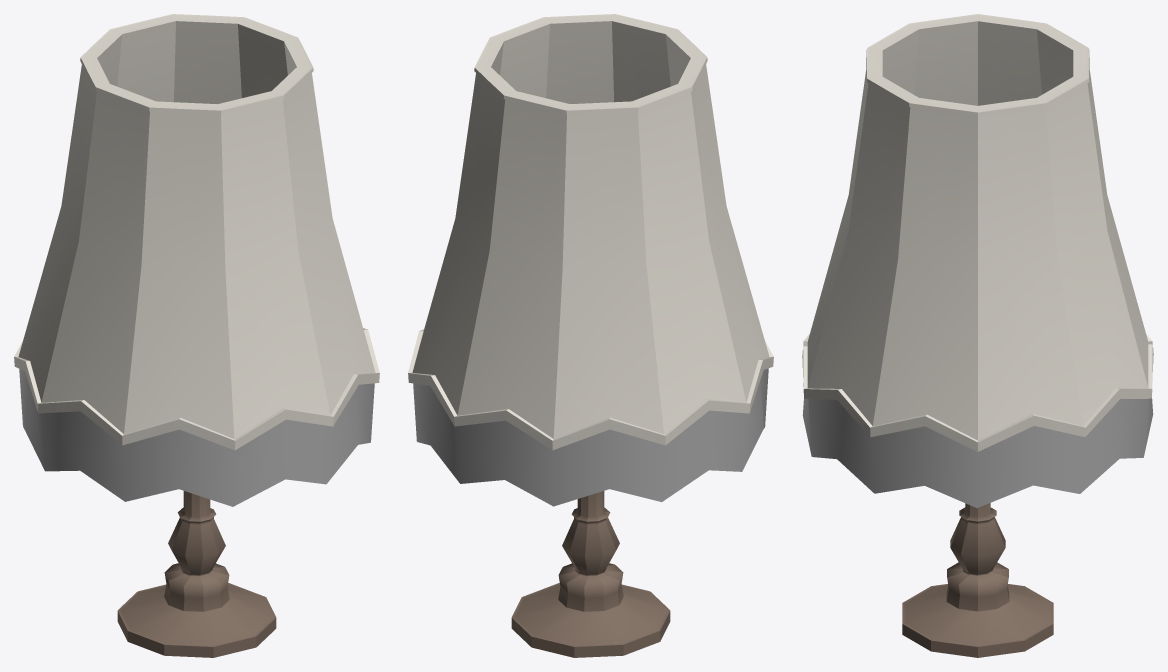
Rendered from Lamp_Table.fbx.
3 renders of one model, left to right at view 1: azimuth 30°, elevation 25°; view 2: azimuth 150°, elevation 25°; view 3: azimuth 270°, elevation 25°, orthographic.
Visible parts, largest first — view 1: LampCover, LampTrim, LampBase; view 2: LampCover, LampTrim, LampBase; view 3: LampCover, LampTrim, LampBase.
Part boxes in pixels (left/top/right/bottom): LampCover: left=14, top=14, right=379, bottom=450; LampTrim: left=19, top=369, right=374, bottom=506; LampBase: left=117, top=491, right=276, bottom=657; LampCover: left=408, top=14, right=773, bottom=450; LampTrim: left=413, top=368, right=768, bottom=506; LampBase: left=511, top=491, right=670, bottom=657; LampCover: left=802, top=14, right=1153, bottom=451; LampTrim: left=802, top=398, right=1153, bottom=507; LampBase: left=902, top=503, right=1053, bottom=657.
Bounding box in the file's own units: 41.09 × 69.33 × 39.33.
